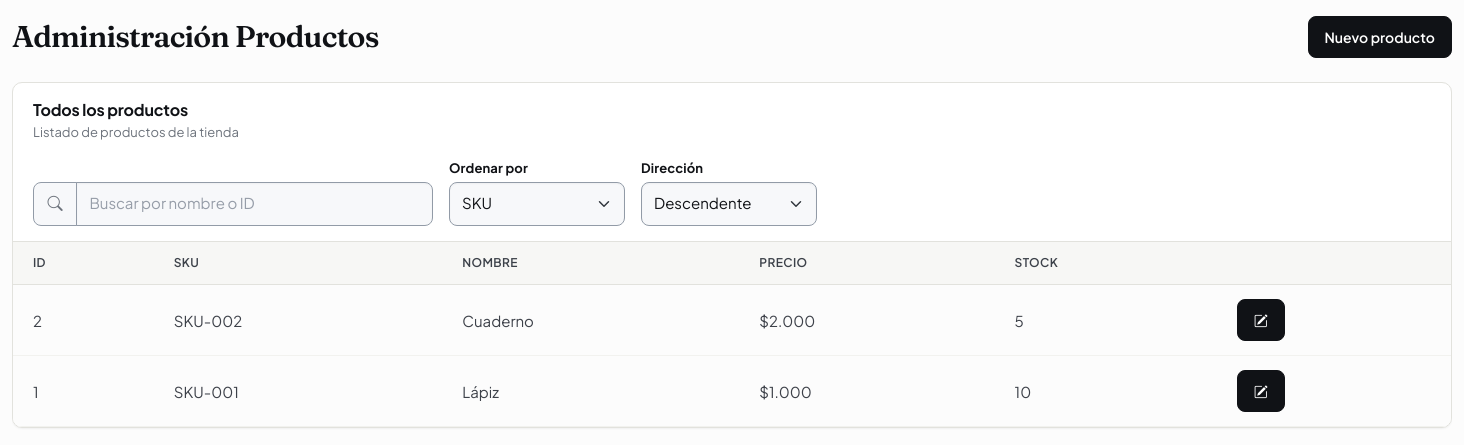
Scenario: AdminControlProduct › Filtra por nombre o SKU
Expected: the text "Lápiz" is shown, [442,356,739,427]
Type "cuaderno" into the field with placeholder "Buscar por nombre o ID" at [255, 204], box [76,182,433,226]
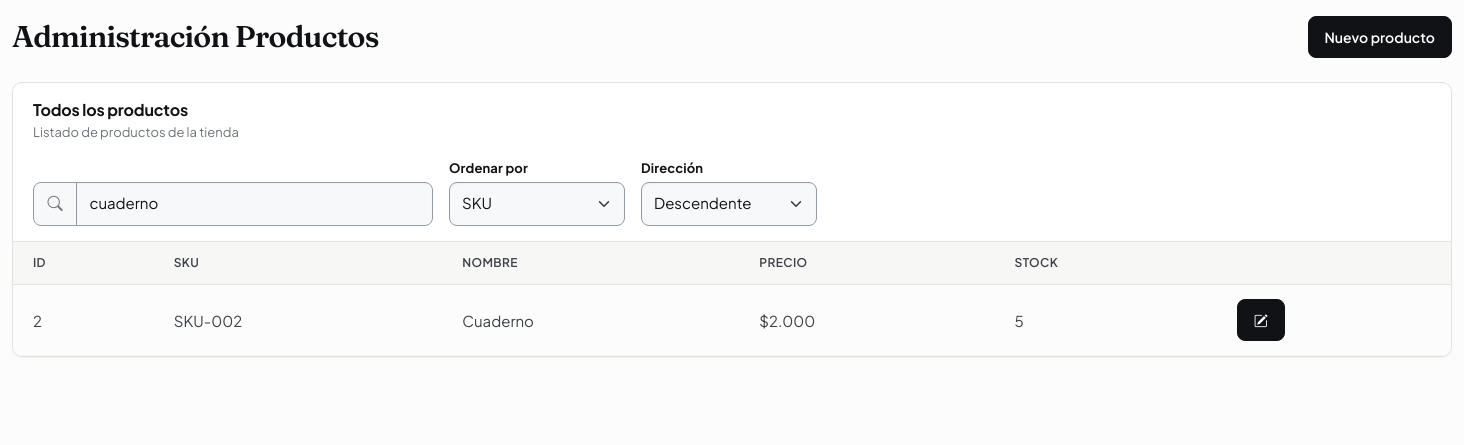
Expected: the text "Cuaderno" is shown, [442,285,739,356]
Result: the text "Lápiz" is gone
